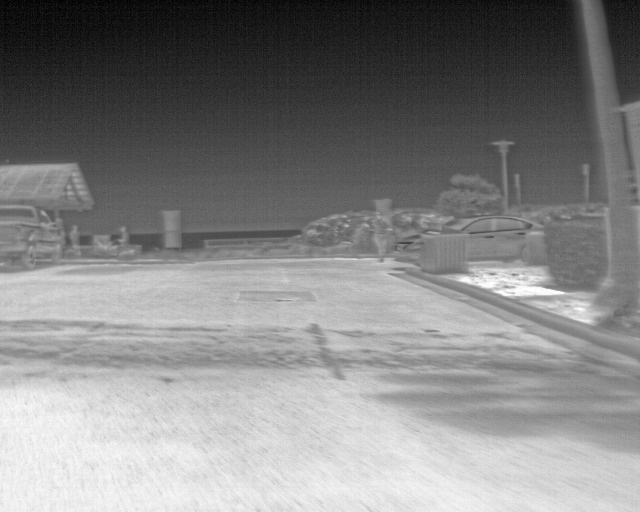vehicle: (396, 215, 553, 261), (1, 202, 62, 273)
